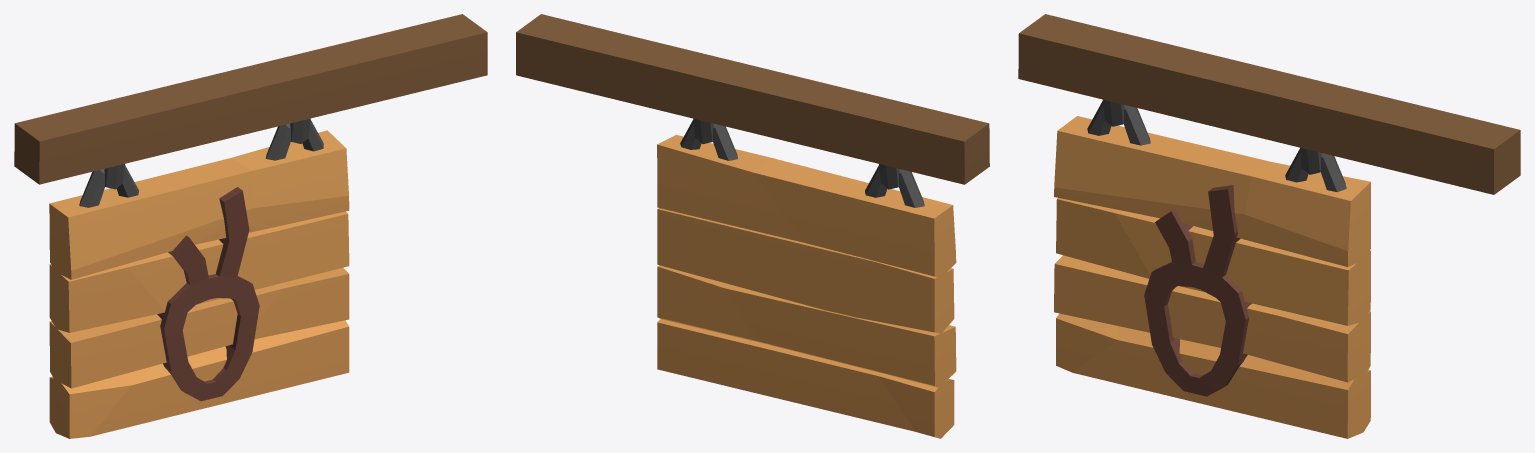
File: Market_Sign_E.fbx
3 renders of one model, left to right at view 1: azimuth 30°, elevation 25°; view 2: azimuth 150°, elevation 25°; view 3: azimuth 330°, elevation 25°, orthographic. The views are drawn at different scales.
Parts seen in each view (by area): view 1: Market_Sign_E; view 2: Market_Sign_E; view 3: Market_Sign_E.
Part boxes in pixels (x1=…): Market_Sign_E: x1=14, y1=14, x2=487, y2=438; Market_Sign_E: x1=516, y1=14, x2=989, y2=438; Market_Sign_E: x1=1018, y1=14, x2=1520, y2=438.
Bounding box in the file's own units: 158 × 105 × 17.07.
